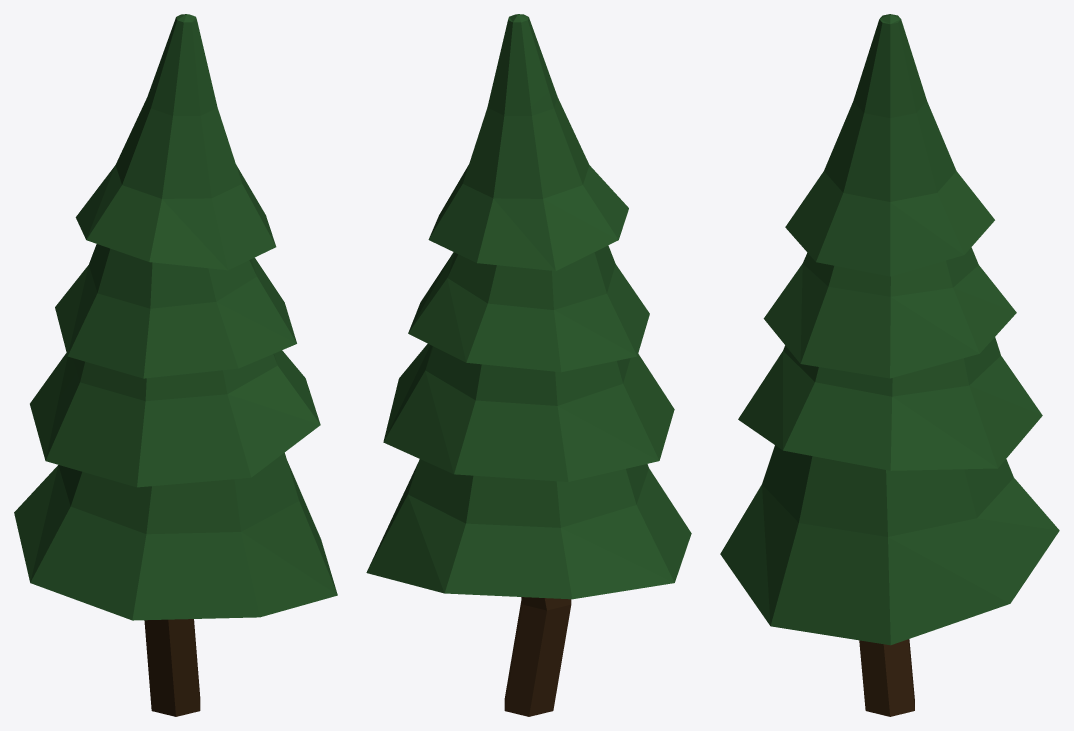
File: Tree_fir.fbx
3 renders of one model, left to right at view 1: azimuth 30°, elevation 25°; view 2: azimuth 150°, elevation 25°; view 3: azimuth 270°, elevation 25°, orthographic.
Visible parts, largest first — view 1: Tree_temp_climate_018; view 2: Tree_temp_climate_018; view 3: Tree_temp_climate_018.
Boxes of the visible parts, x1,y1,x2,y2 form: Tree_temp_climate_018: (14,14,337,716); Tree_temp_climate_018: (366,14,691,716); Tree_temp_climate_018: (720,14,1059,716).
Size of the model in its own units: 242 by 548 by 242.
